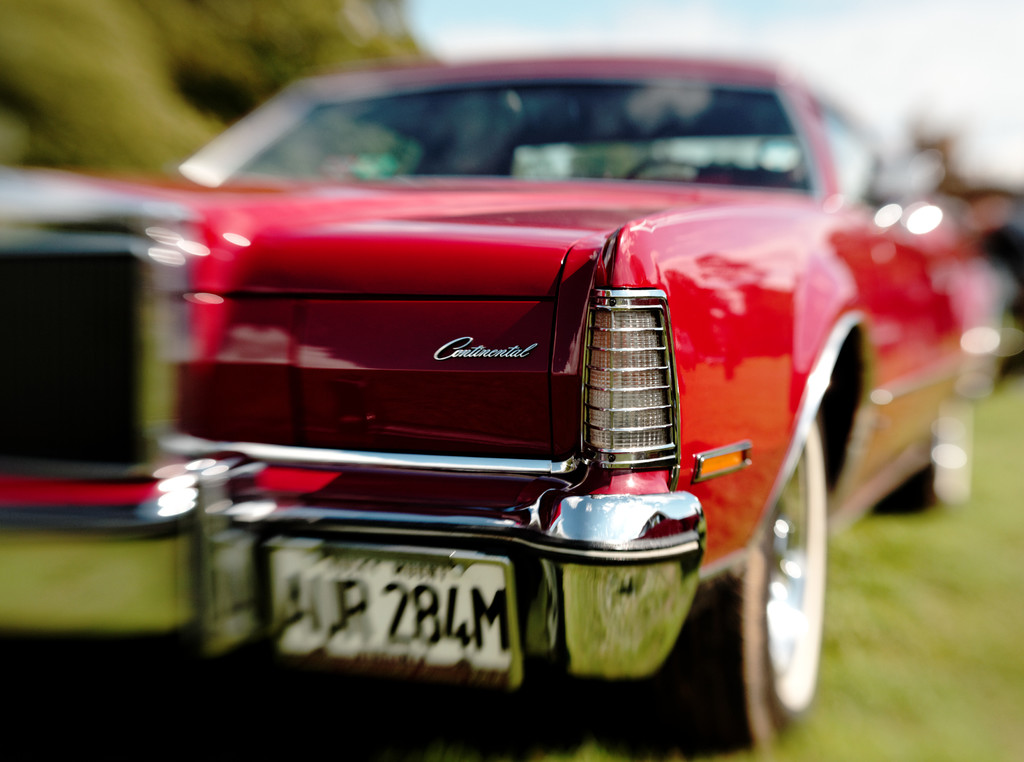Car: (96, 73, 977, 713)
